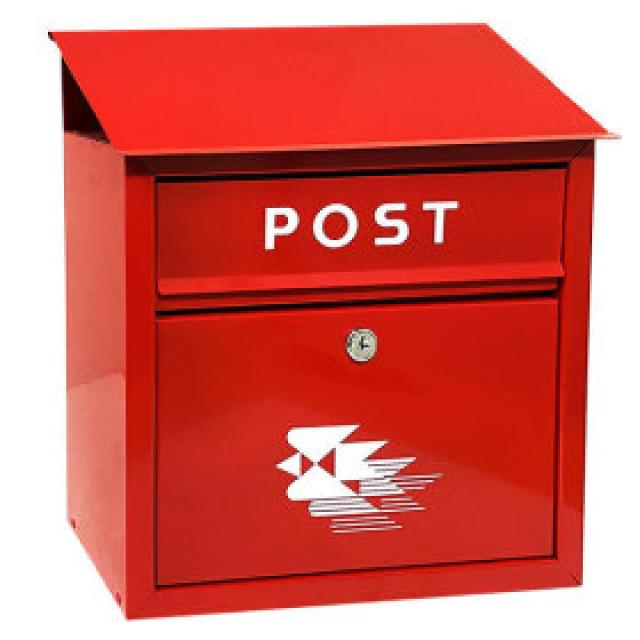Post Box: (45, 24, 620, 625)
